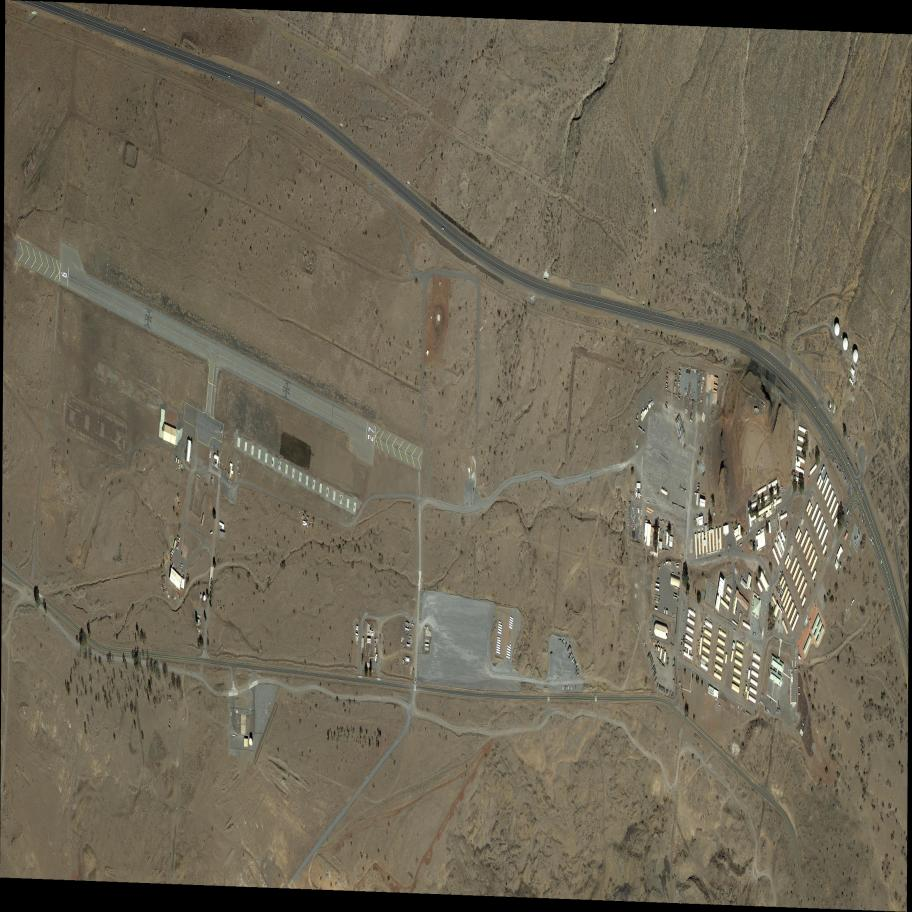large-vehicle: (567, 653, 574, 662), (657, 659, 663, 665), (652, 670, 657, 676), (651, 665, 655, 672), (649, 658, 653, 665), (648, 656, 652, 663), (648, 654, 652, 661), (647, 652, 651, 659), (661, 664, 666, 669), (653, 672, 657, 678), (652, 668, 656, 674), (650, 662, 654, 668), (649, 660, 653, 666), (571, 657, 574, 663), (664, 608, 666, 615), (662, 687, 664, 694), (663, 688, 665, 695), (376, 638, 378, 645), (659, 686, 661, 692), (657, 683, 659, 689), (660, 687, 662, 693), (661, 687, 663, 693), (664, 689, 666, 695), (659, 685, 660, 691), (667, 690, 668, 696), (666, 690, 667, 696)
small-vehicle: (777, 588, 780, 595), (175, 546, 179, 551), (846, 521, 850, 526), (808, 618, 811, 624), (779, 593, 782, 599), (781, 589, 784, 595), (779, 599, 782, 605), (777, 591, 780, 597), (778, 592, 781, 598), (665, 372, 669, 376), (656, 578, 660, 582), (679, 650, 683, 654), (176, 544, 180, 548), (170, 554, 174, 558), (169, 556, 173, 560), (169, 559, 173, 563), (180, 563, 184, 567), (662, 530, 664, 538), (643, 642, 646, 647), (643, 640, 646, 645), (222, 604, 225, 609), (305, 510, 308, 515), (847, 457, 850, 462), (843, 449, 846, 454), (836, 465, 839, 470), (124, 28, 127, 33), (780, 595, 783, 600), (779, 603, 782, 608), (802, 722, 805, 727), (776, 588, 779, 593), (870, 538, 873, 543), (880, 558, 883, 563), (754, 494, 757, 499), (665, 529, 667, 536), (172, 562, 174, 569), (746, 668, 748, 675), (698, 381, 700, 387), (665, 383, 669, 386), (674, 412, 677, 416), (210, 531, 213, 535), (733, 629, 736, 633), (695, 672, 697, 678), (653, 640, 655, 646), (335, 882, 337, 888), (442, 227, 445, 231), (838, 440, 841, 444), (844, 478, 846, 484), (727, 601, 730, 605), (562, 685, 564, 691), (739, 544, 743, 547), (803, 719, 806, 723), (776, 585, 778, 591), (867, 530, 869, 536), (872, 540, 874, 546), (680, 574, 682, 579), (738, 704, 740, 709), (654, 641, 656, 646), (650, 638, 652, 643), (177, 568, 179, 573), (176, 567, 178, 572), (220, 600, 222, 605), (702, 622, 704, 627), (566, 684, 568, 689), (865, 524, 867, 529), (728, 544, 730, 549), (869, 535, 871, 540), (757, 518, 759, 523), (782, 489, 784, 494), (764, 526, 766, 531), (755, 519, 757, 524), (752, 521, 754, 526), (751, 527, 753, 532), (749, 528, 751, 533), (180, 566, 183, 569), (408, 639, 411, 642), (780, 510, 783, 513), (680, 644, 683, 647), (681, 639, 683, 643), (649, 629, 651, 633), (181, 551, 183, 555), (770, 710, 772, 714), (831, 452, 833, 456), (835, 462, 837, 466), (850, 462, 852, 466), (861, 487, 863, 491), (808, 476, 810, 480), (765, 526, 767, 530), (754, 631, 755, 638), (685, 389, 686, 395), (170, 696, 171, 702), (169, 696, 170, 702), (168, 696, 169, 702), (672, 573, 675, 575), (700, 531, 701, 537), (767, 708, 768, 714), (682, 621, 684, 624), (683, 610, 685, 613), (768, 708, 769, 714), (220, 607, 222, 610), (829, 450, 831, 453), (409, 636, 412, 638), (410, 628, 412, 631), (678, 572, 680, 575), (683, 635, 685, 638), (704, 527, 705, 533), (697, 533, 698, 539), (702, 630, 704, 633), (741, 705, 742, 711), (568, 684, 569, 690), (753, 631, 754, 637), (795, 668, 797, 671), (798, 693, 800, 696), (780, 572, 782, 575), (661, 529, 662, 534), (238, 459, 239, 464), (224, 434, 225, 439), (693, 671, 694, 676), (769, 709, 770, 714), (183, 571, 184, 576), (304, 510, 305, 515), (575, 685, 576, 690), (571, 686, 572, 691), (566, 684, 567, 689), (565, 685, 566, 690), (774, 713, 775, 718), (755, 633, 756, 638), (784, 488, 785, 493), (709, 502, 710, 506), (230, 479, 231, 483), (228, 478, 229, 482), (161, 585, 162, 589), (765, 707, 766, 711), (706, 518, 707, 522), (708, 524, 709, 528), (182, 571, 183, 575), (842, 471, 843, 475), (681, 642, 683, 644), (863, 520, 864, 524), (791, 673, 793, 675), (771, 700, 772, 704), (707, 503, 708, 506), (799, 686, 800, 689), (229, 76, 230, 78), (409, 641, 410, 643)
storage-tank: (853, 350, 859, 363), (843, 337, 848, 352), (835, 323, 840, 337), (249, 738, 253, 746), (203, 595, 206, 601)
